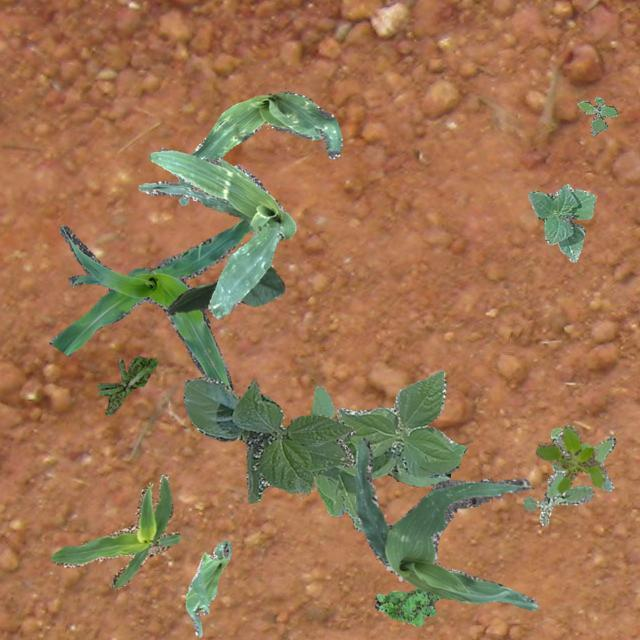crop: (49, 216, 252, 394), (354, 436, 536, 610), (138, 146, 294, 318), (310, 368, 466, 530), (182, 376, 356, 502), (176, 90, 342, 204), (50, 474, 180, 588), (166, 264, 284, 314), (526, 184, 594, 262), (184, 540, 230, 636), (386, 448, 449, 486)
weed: (522, 426, 616, 524), (534, 422, 604, 492), (96, 354, 156, 414), (374, 588, 440, 626), (576, 96, 616, 136)
